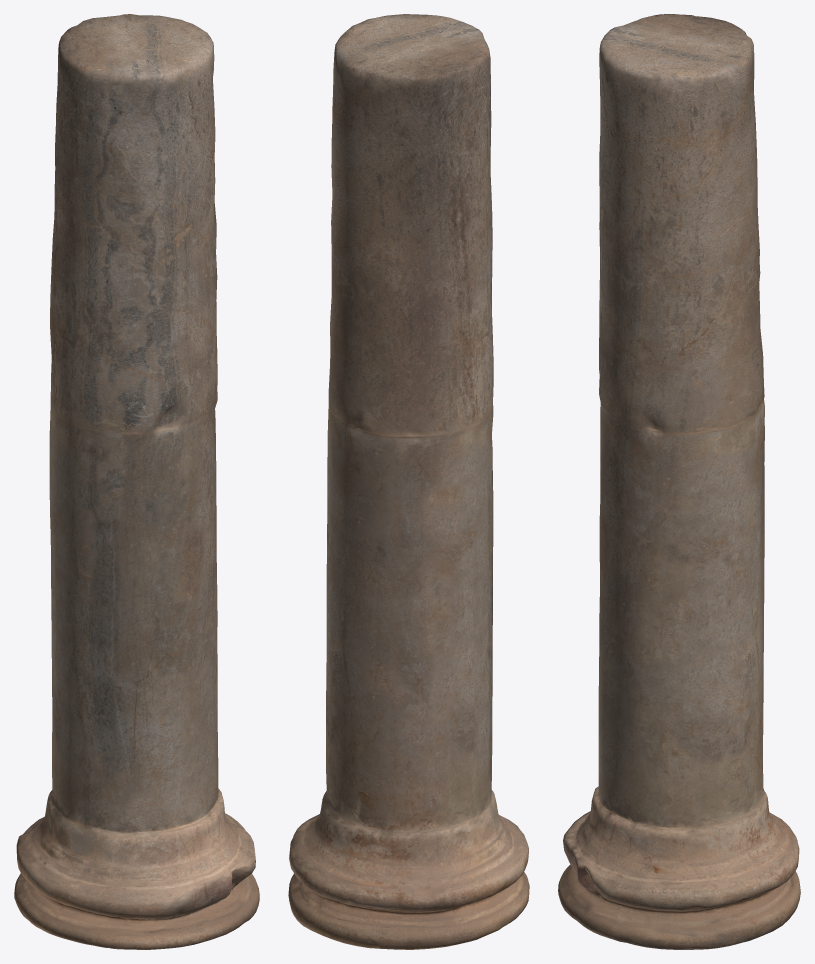
3 renders of one model, left to right at view 1: azimuth 30°, elevation 25°; view 2: azimuth 150°, elevation 25°; view 3: azimuth 270°, elevation 25°, orthographic.
Parts seen in each view (by area): view 1: Aset_stone_carved_M_tkxkaeqfa_LOD0; view 2: Aset_stone_carved_M_tkxkaeqfa_LOD0; view 3: Aset_stone_carved_M_tkxkaeqfa_LOD0.
Boxes of the visible parts, <box> form: Aset_stone_carved_M_tkxkaeqfa_LOD0: <box>14,14,259,949</box>; Aset_stone_carved_M_tkxkaeqfa_LOD0: <box>288,14,529,949</box>; Aset_stone_carved_M_tkxkaeqfa_LOD0: <box>558,14,800,949</box>.
Bounding box in the file's own units: 0.5439 × 0.5463 × 2.13.
Materials: 1 (1 with a texture image).
